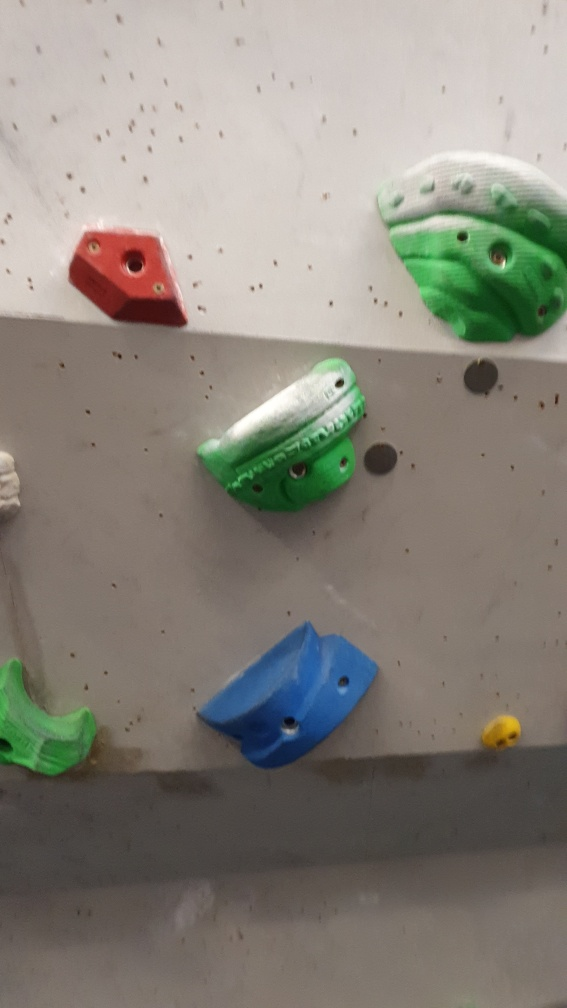Crimp: (67, 221, 193, 334)
Hand Start: (461, 355, 504, 403), (362, 438, 406, 482)
Jug: (367, 137, 567, 351), (189, 354, 368, 516), (1, 647, 103, 779)
Pinch: (196, 618, 380, 765)
